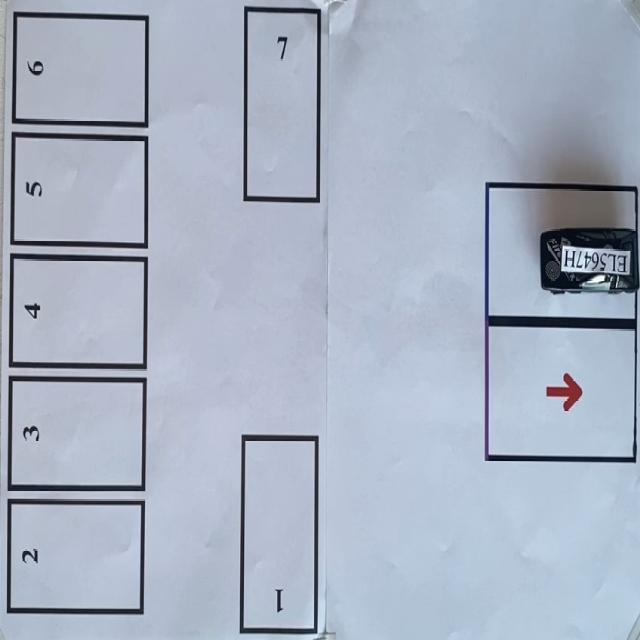car: (540, 228, 639, 292)
